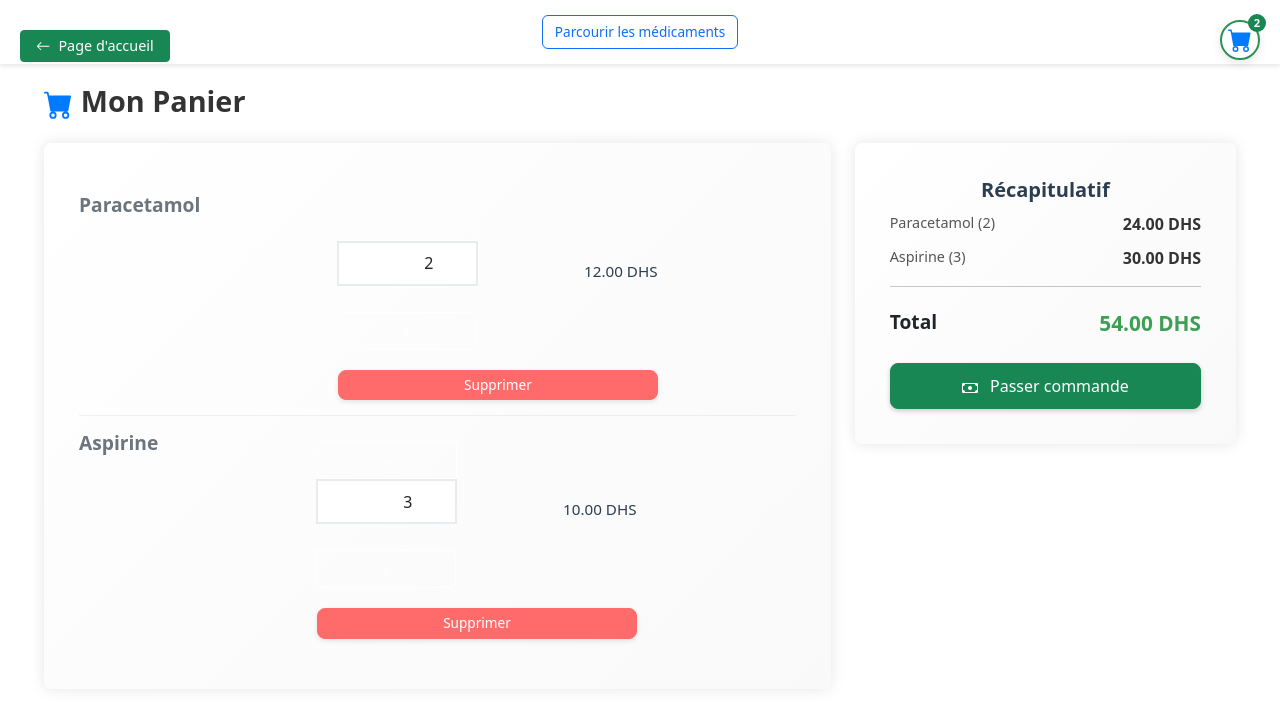
it: Panier Component › removes item from cart
The width and height of the screenshot is (1280, 720).
Expected: the heading "Mon Panier" is shown, 44,84 -> 246,119
# Get the remove buttons and click the first one
Click the button "Supprimer" below "12.00" at point(498, 385), box 338,370 -> 658,400
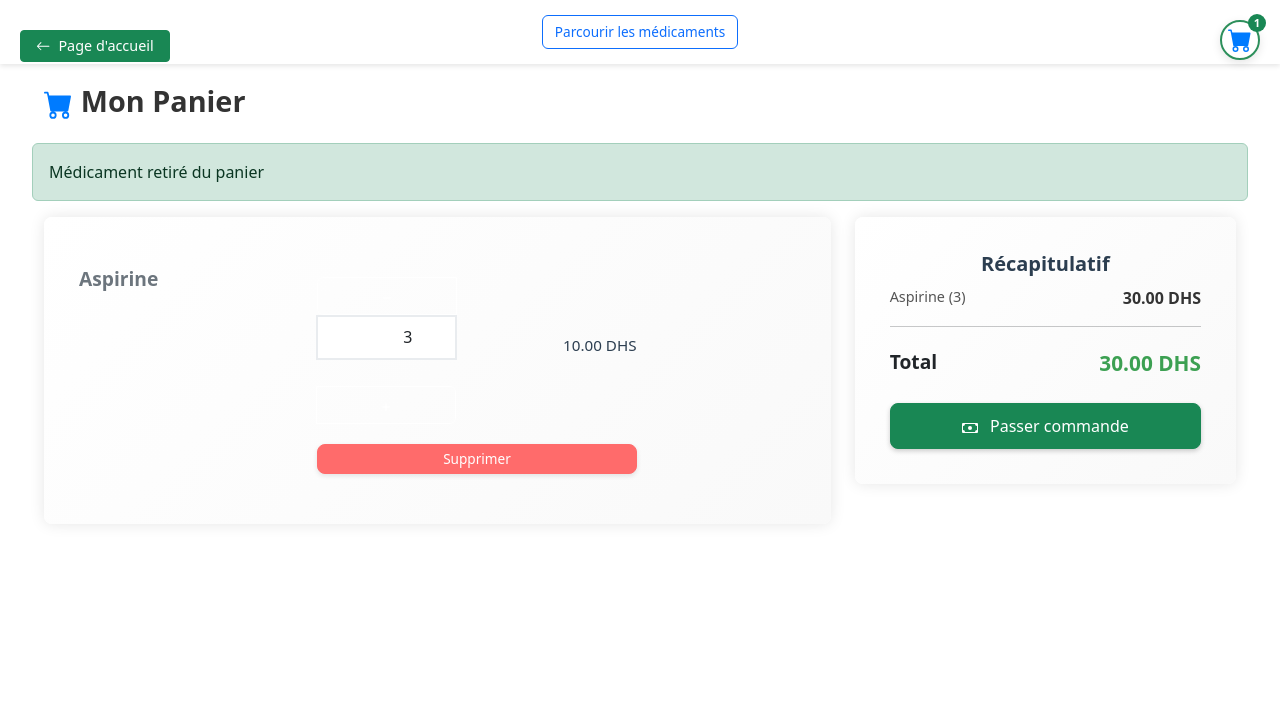
Now the text "Médicament retiré du panier" is shown, box 32,143 -> 1248,201
